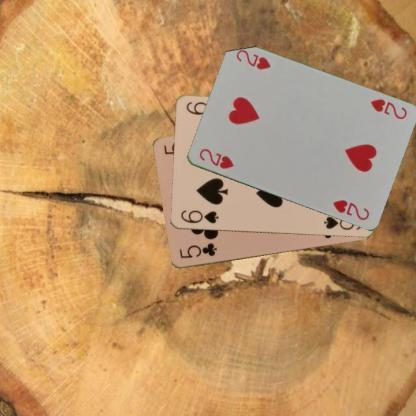2h: (367, 96, 408, 121), (196, 146, 234, 170)
5c: (176, 240, 218, 260)
6s: (178, 207, 220, 225)
